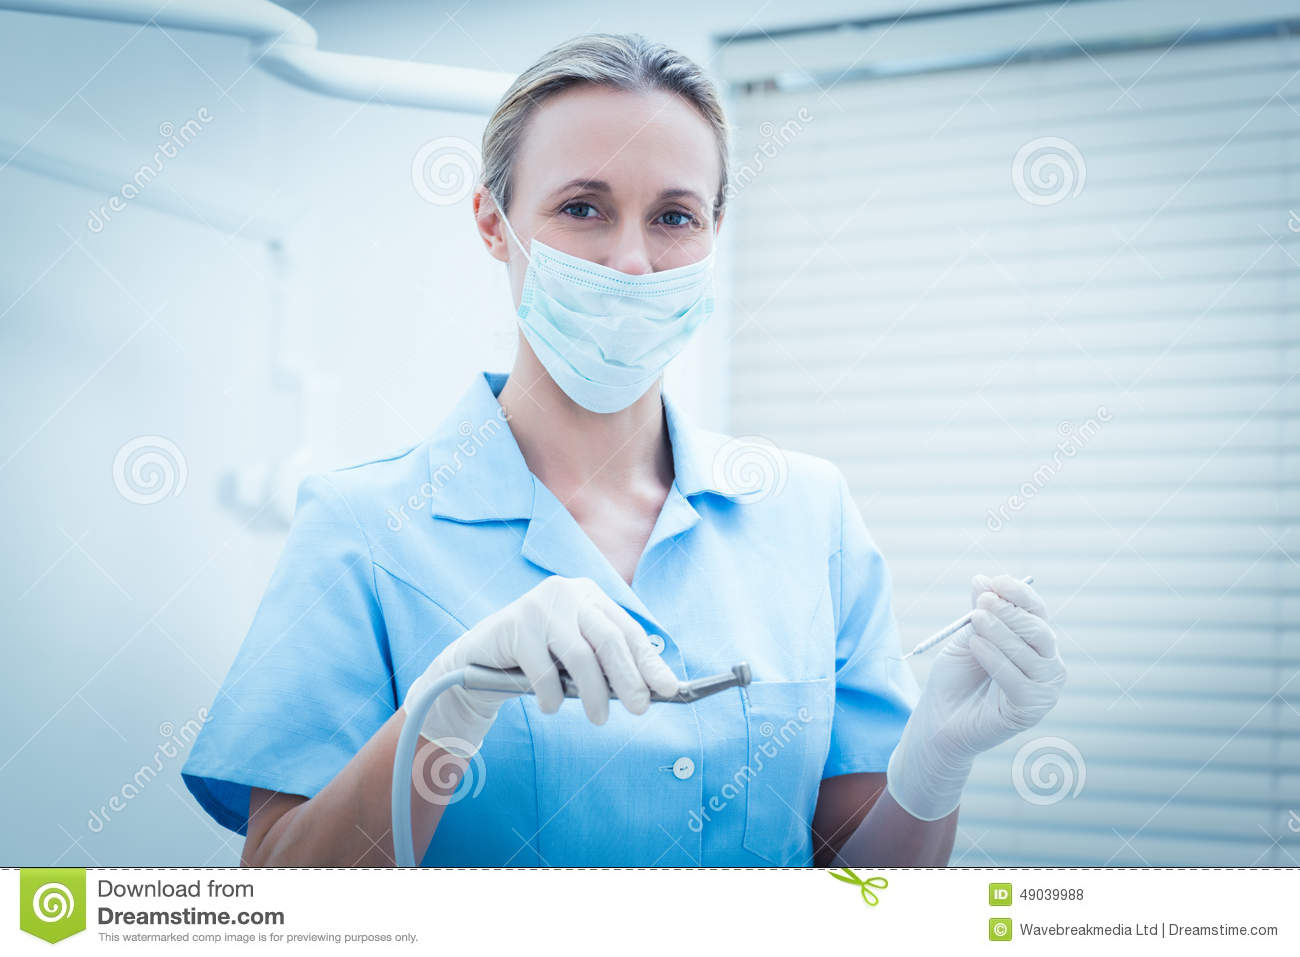mask: (508, 238, 744, 430)
